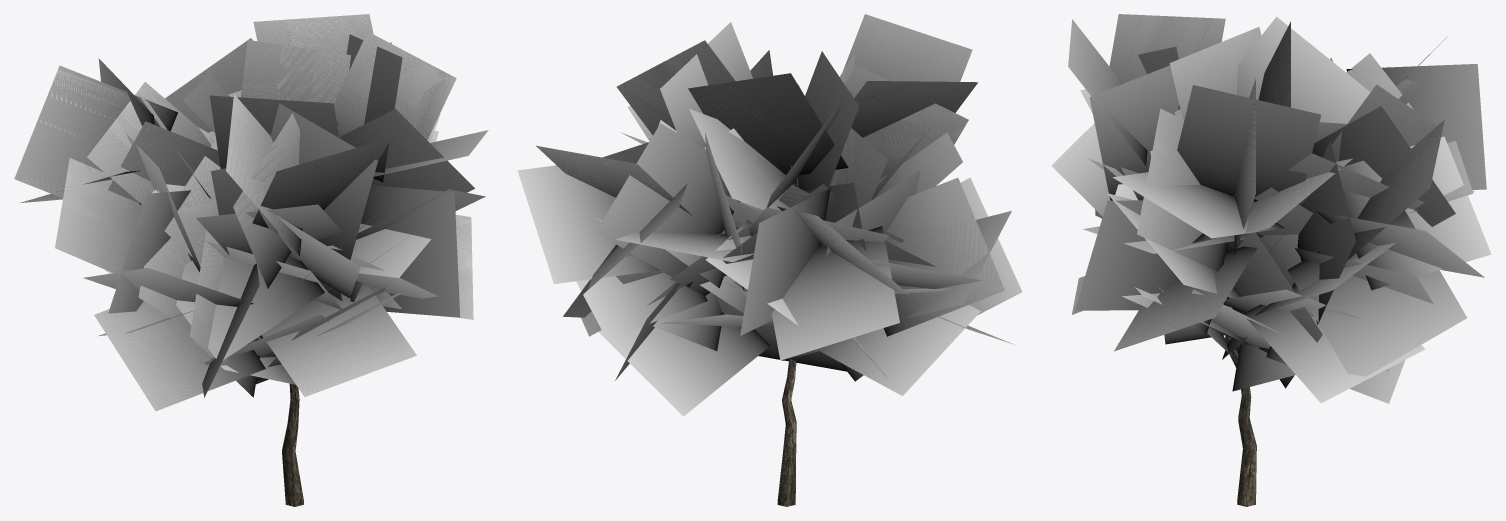
The model's file is tree3.fbx.
3 renders of one model, left to right at view 1: azimuth 30°, elevation 25°; view 2: azimuth 150°, elevation 25°; view 3: azimuth 270°, elevation 25°, orthographic. The views are drawn at different scales.
Visible parts, largest first — view 1: tree3_leafs, tree3_leafs_flip, tree3_trunk; view 2: tree3_leafs, tree3_leafs_flip, tree3_trunk; view 3: tree3_leafs, tree3_leafs_flip, tree3_trunk.
Part boxes in pixels (<box>): tree3_leafs: <box>14,14,488,411</box>; tree3_leafs_flip: <box>17,14,485,403</box>; tree3_trunk: <box>257,337,303,506</box>; tree3_leafs: <box>517,14,1022,416</box>; tree3_leafs_flip: <box>521,15,1017,409</box>; tree3_trunk: <box>716,164,827,506</box>; tree3_leafs: <box>1051,14,1491,403</box>; tree3_leafs_flip: <box>1052,14,1491,401</box>; tree3_trunk: <box>1223,191,1295,506</box>.
Bounding box in the file's own units: 10.98 × 11.76 × 10.02.
